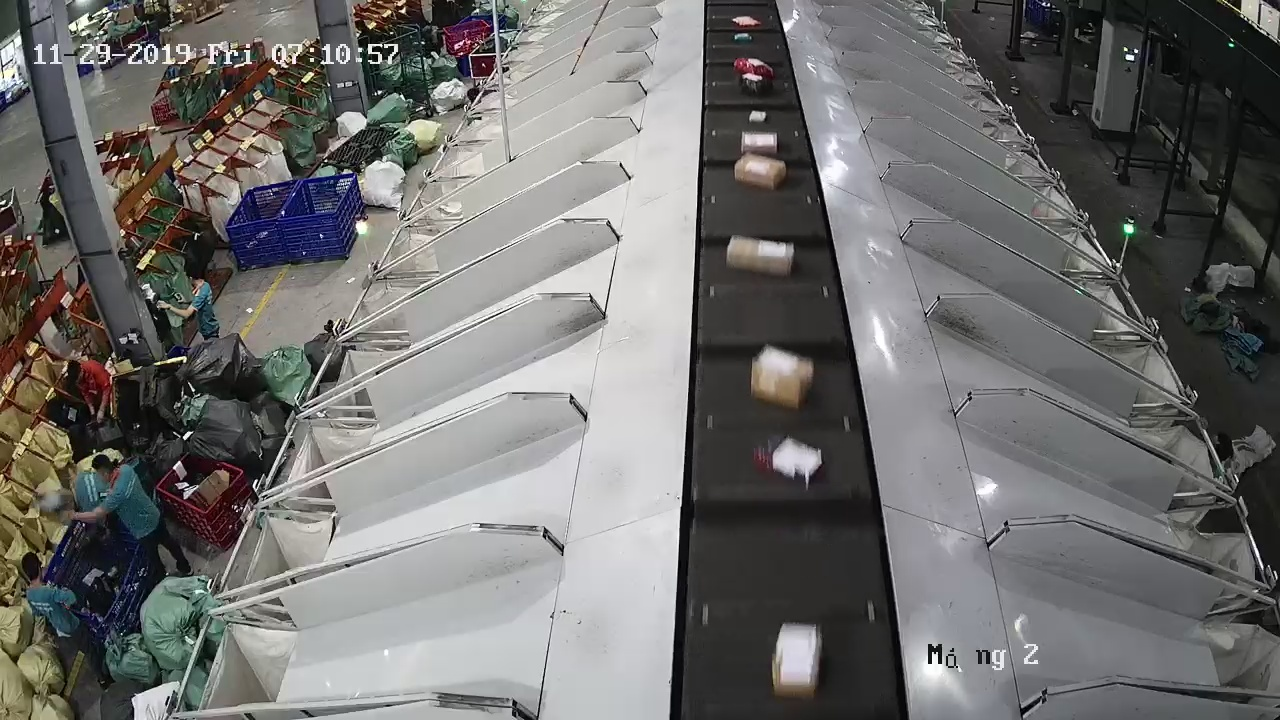parcel: (770, 621, 823, 700), (750, 346, 814, 411), (755, 434, 823, 481), (725, 234, 795, 277)
